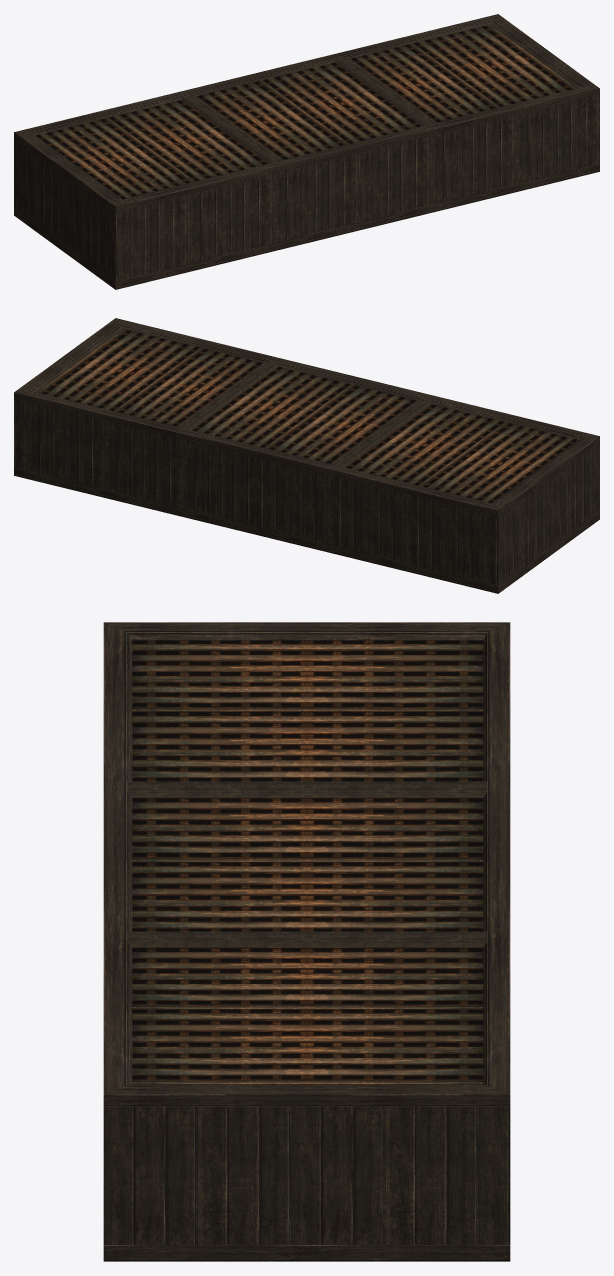
Rendered from vent07.fbx.
3 renders of one model, top to bottom at view 1: azimuth 30°, elevation 25°; view 2: azimuth 150°, elevation 25°; view 3: azimuth 270°, elevation 25°, orthographic. The views are drawn at different scales.
Parts seen in each view (by area): view 1: vent07; view 2: vent07; view 3: vent07.
Boxes of the visible parts, x1=… form: vent07: x1=14, y1=14, x2=599, y2=289; vent07: x1=14, y1=318, x2=599, y2=593; vent07: x1=103, y1=622, x2=510, y2=1261.
Bounding box in the file's own units: 9.22 × 1.52 × 3.35.
